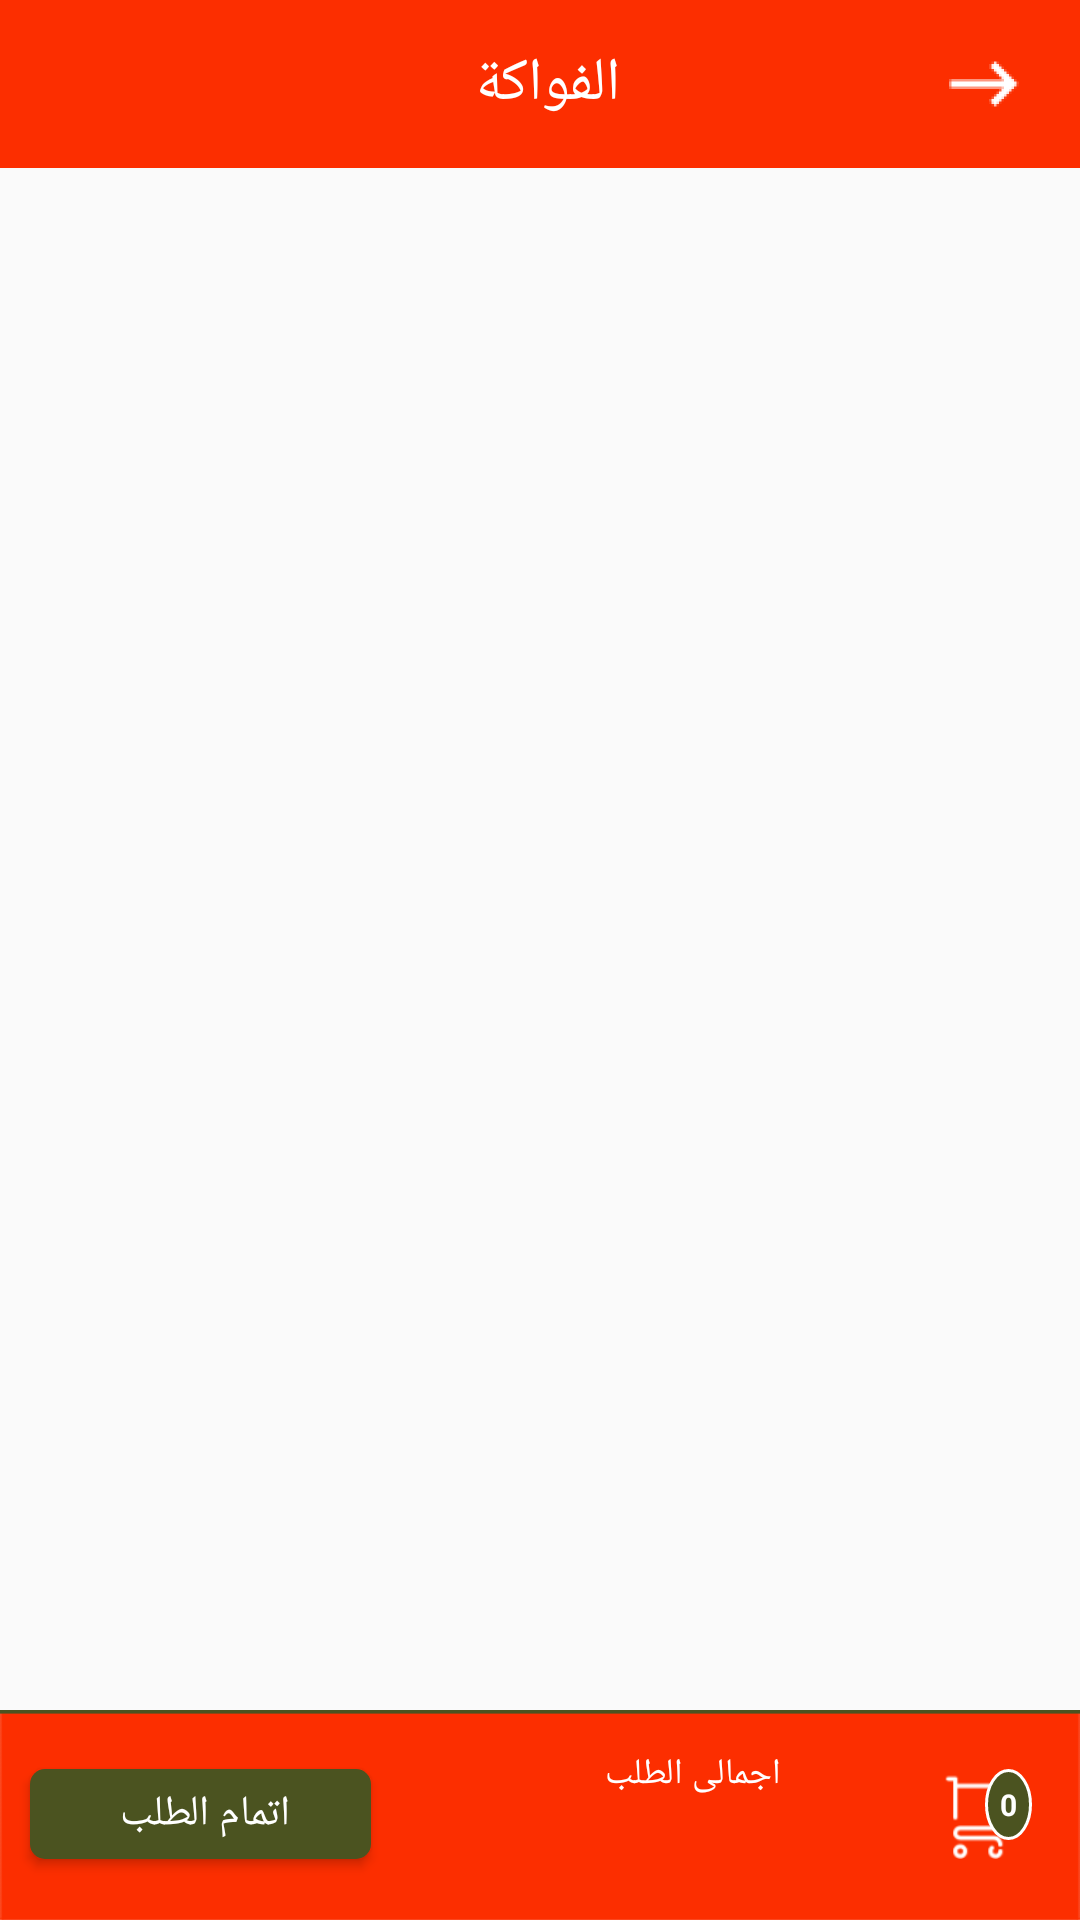

Named icons in this screenshot (1080×1920) and their bounding boxes, (x1, y1, x2, y2):
shopping: (945, 1769, 1032, 1859)
